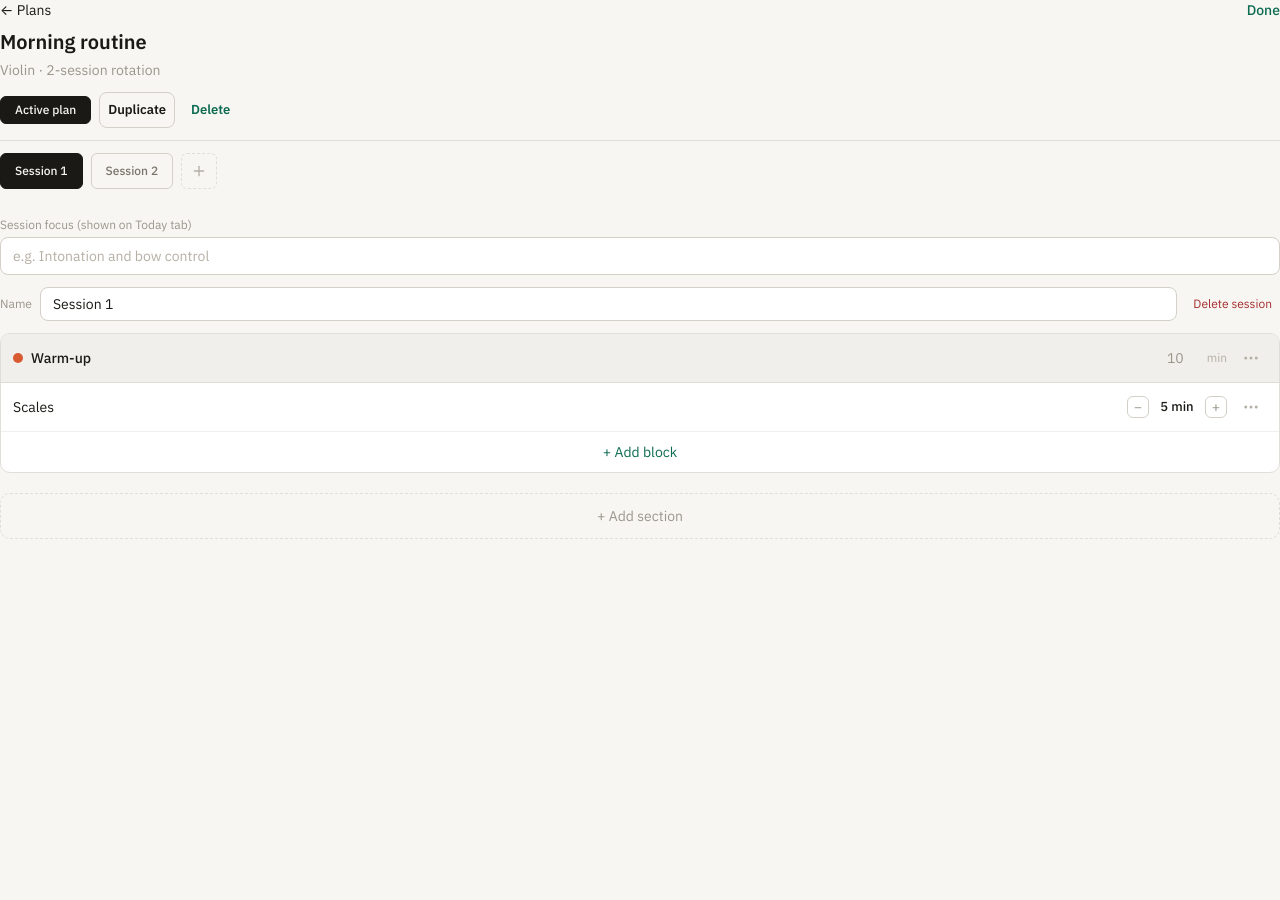
Test: TemplateEditorPage — destructive confirmations › leaves the block alone when the confirm is escaped
This screenshot has width=1280, height=900.
Expected: the 1st field showing "Morning routine" is shown, [0,28,1279,56]
Click the button named "Block actions".
click(1251, 406)  # box [1235,390,1267,422]
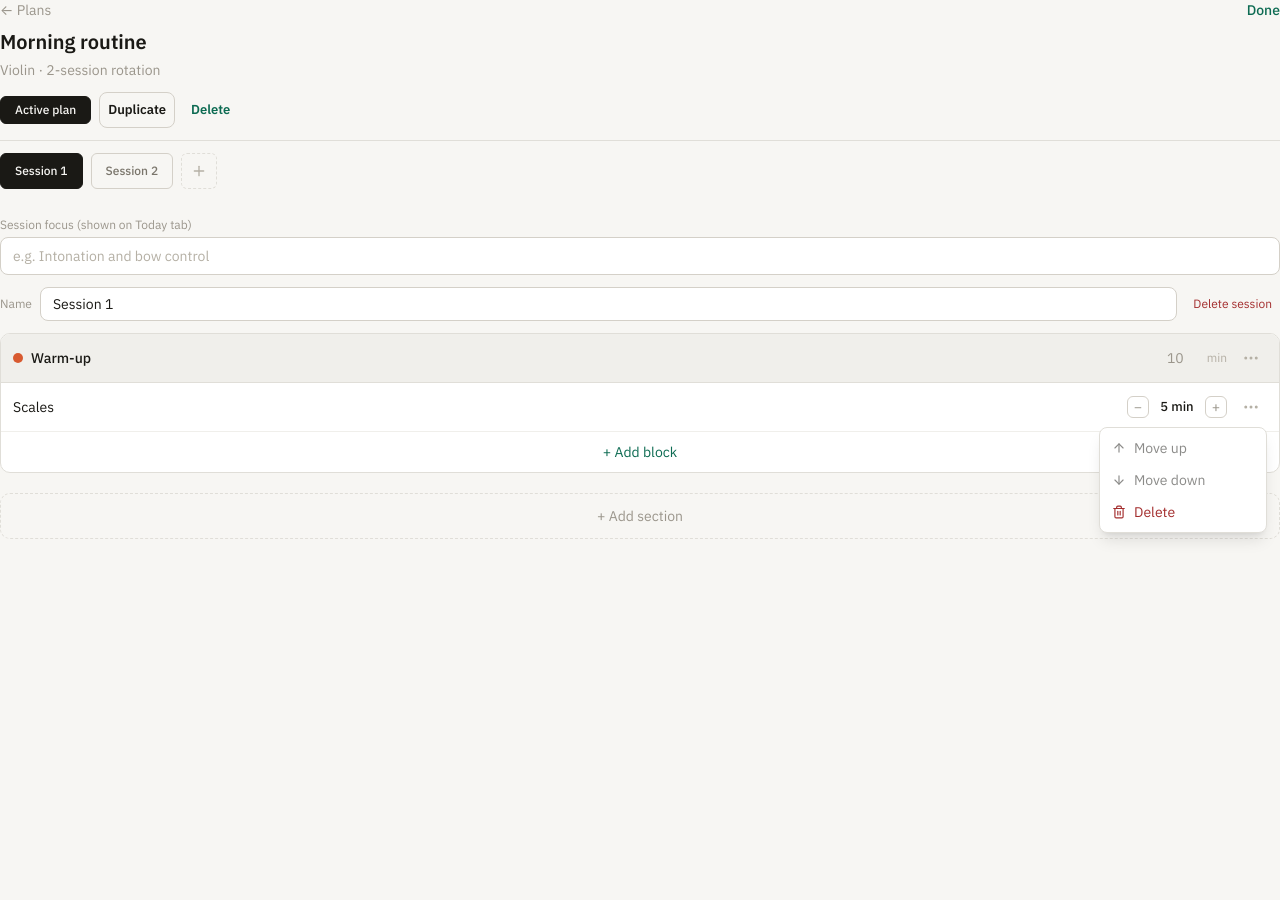
Click the menu item "Delete".
click(1144, 512)  # box [1112,503,1175,521]
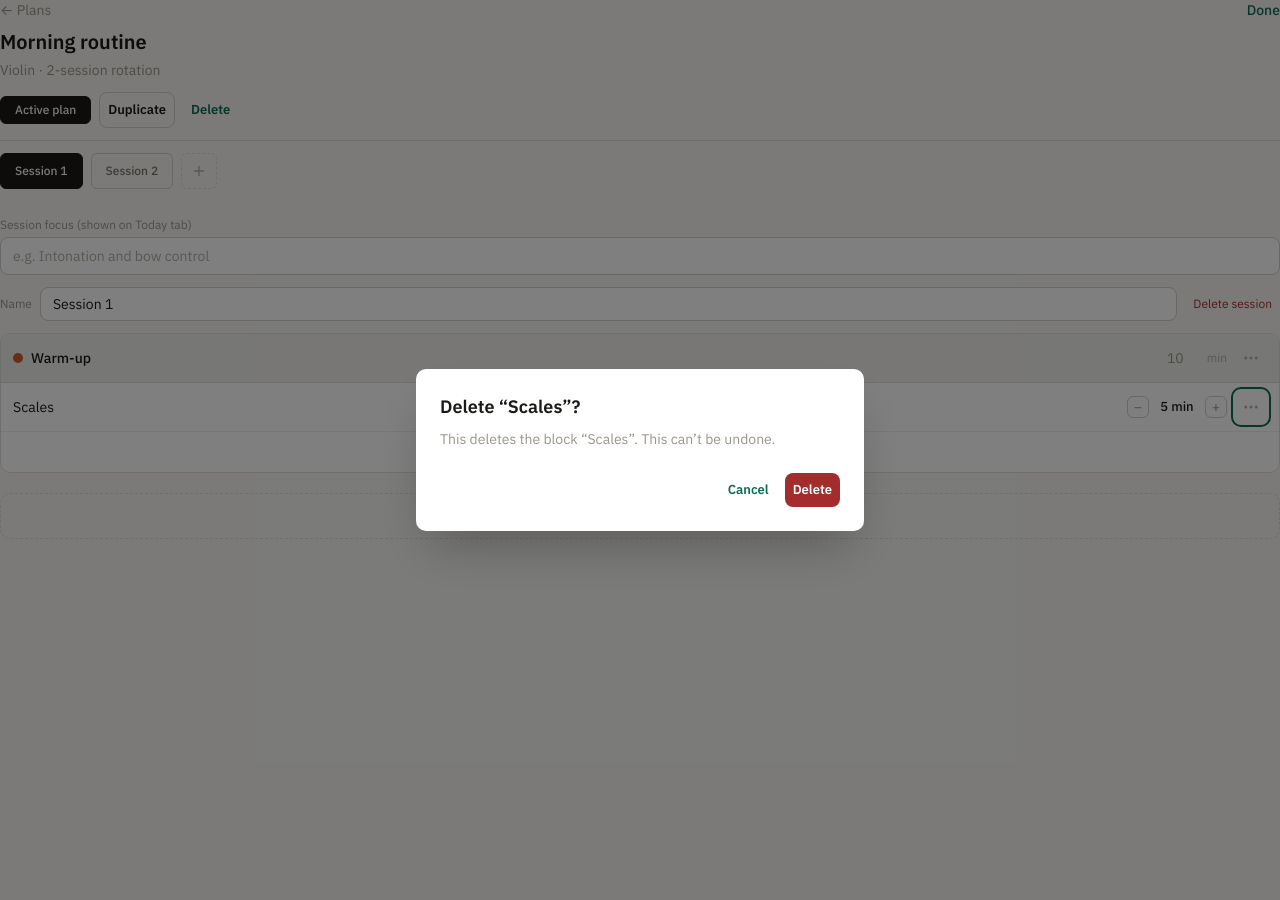
Expected: the dialog is shown, [416,369,864,531]
Press Escape
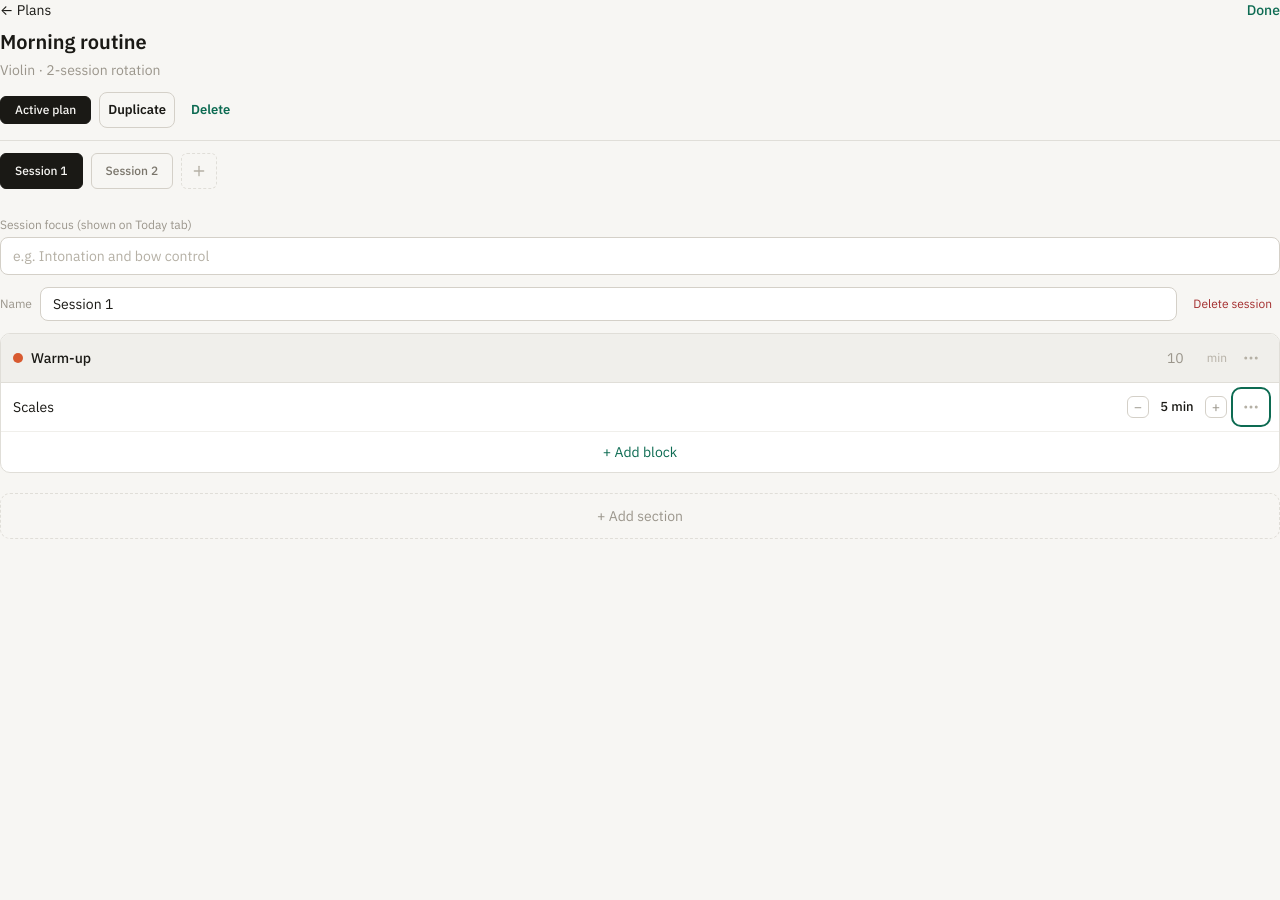
Expected: the dialog is gone
